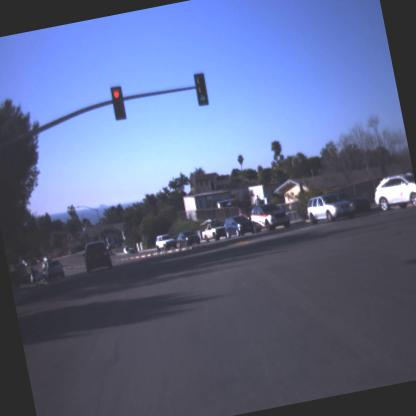trafficlight: (106, 80, 129, 124), (189, 68, 212, 106)
